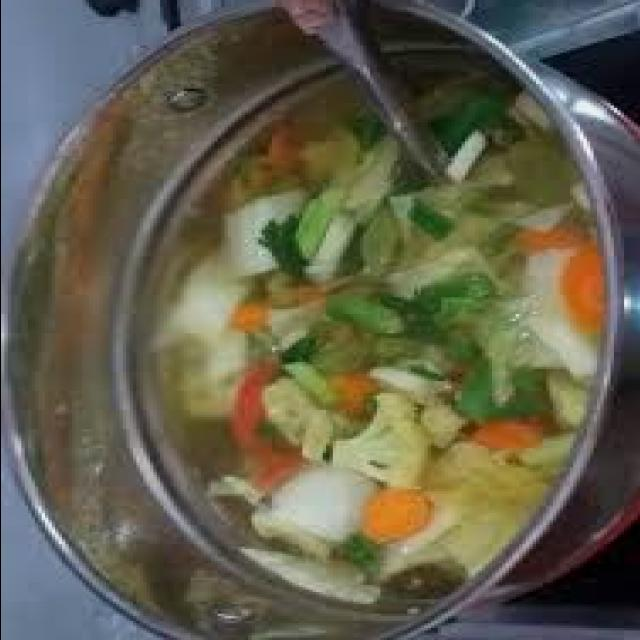sop: (146, 65, 610, 554)
